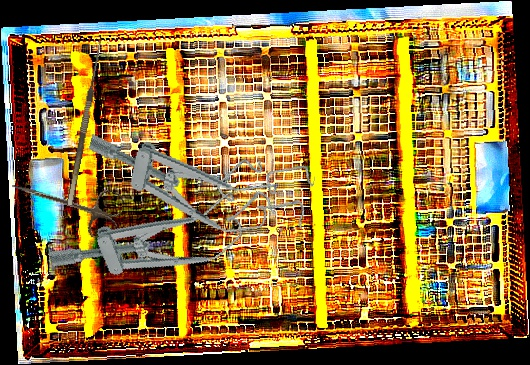Hook Surgical: (57, 33, 106, 206)
Iris Scissors: (4, 164, 126, 243)
Speculum: (41, 153, 288, 315), (77, 116, 318, 250)
